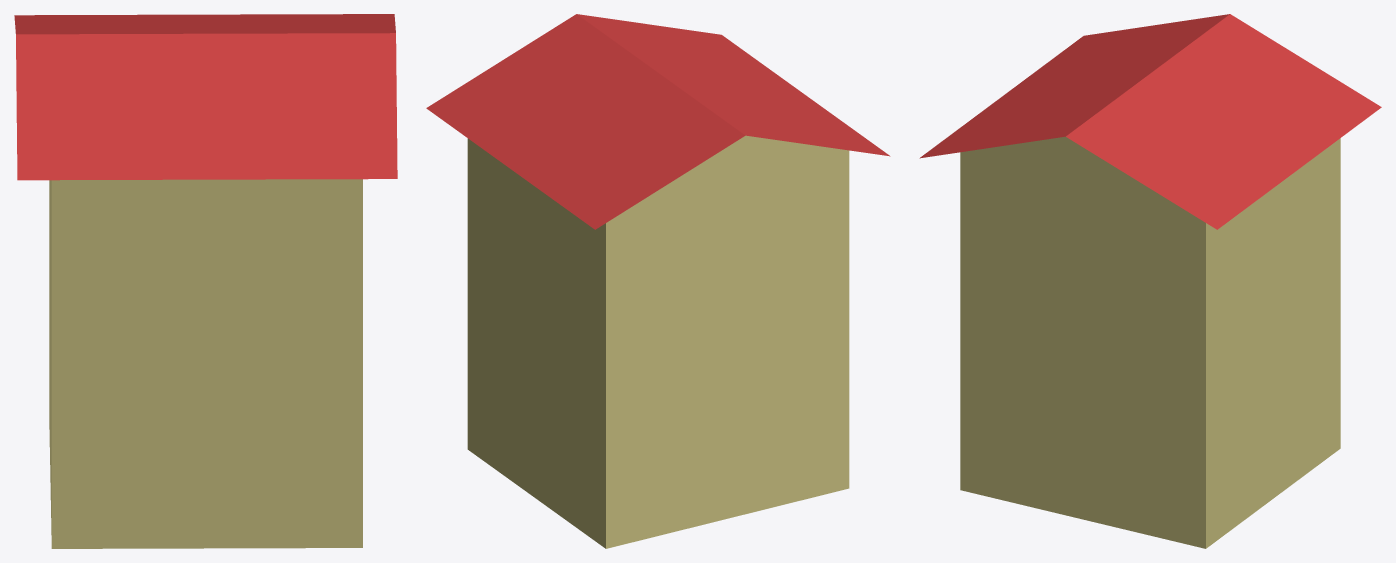
3 renders of one model, left to right at view 1: azimuth 30°, elevation 25°; view 2: azimuth 150°, elevation 25°; view 3: azimuth 270°, elevation 25°, orthographic. The views are drawn at different scales.
Size of the model in its own units: 7.58 by 7.64 by 7.16.
